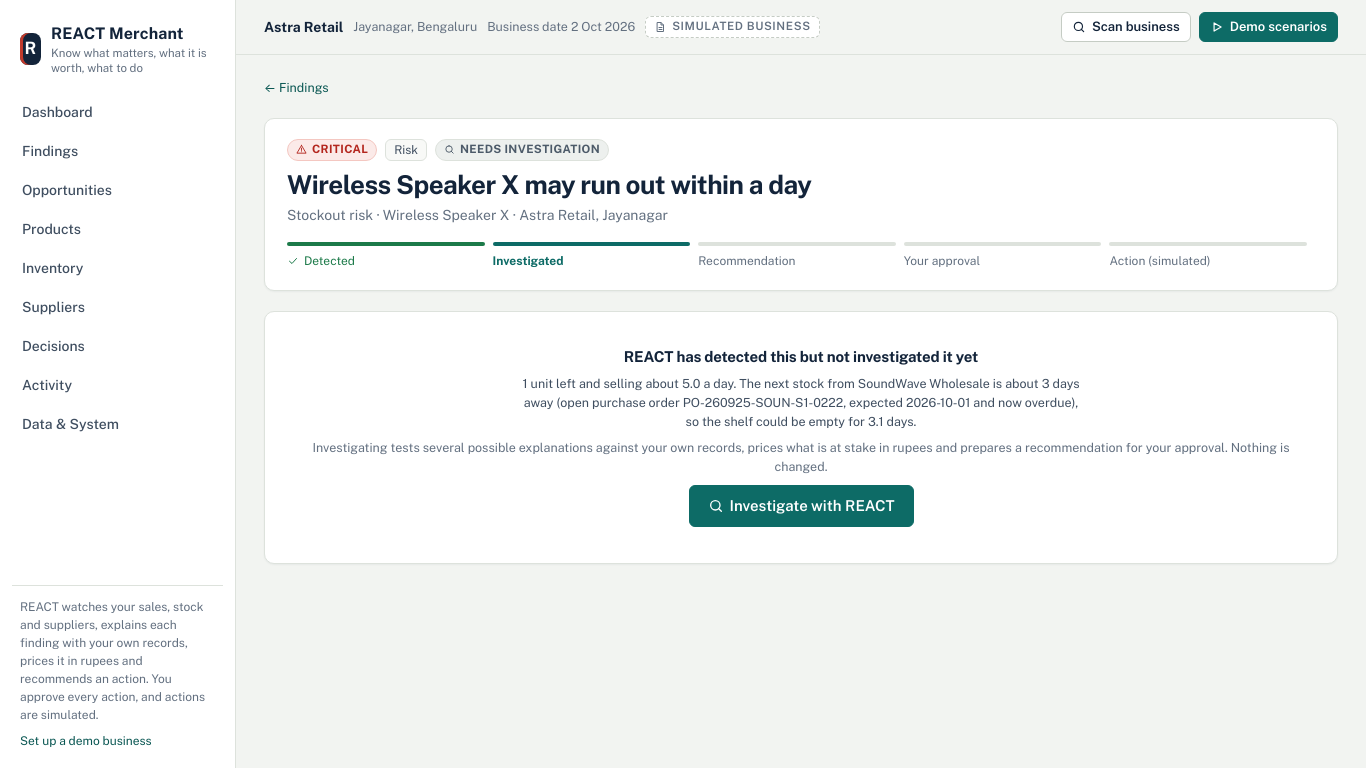
Investigation (case) page › offers to investigate a new finding and runs the REACT workflow
The width and height of the screenshot is (1366, 768).
Click the button "Investigate with REACT". click: (801, 506)
box: top-left (688, 485), bottom-right (914, 527)
(page scrolled)
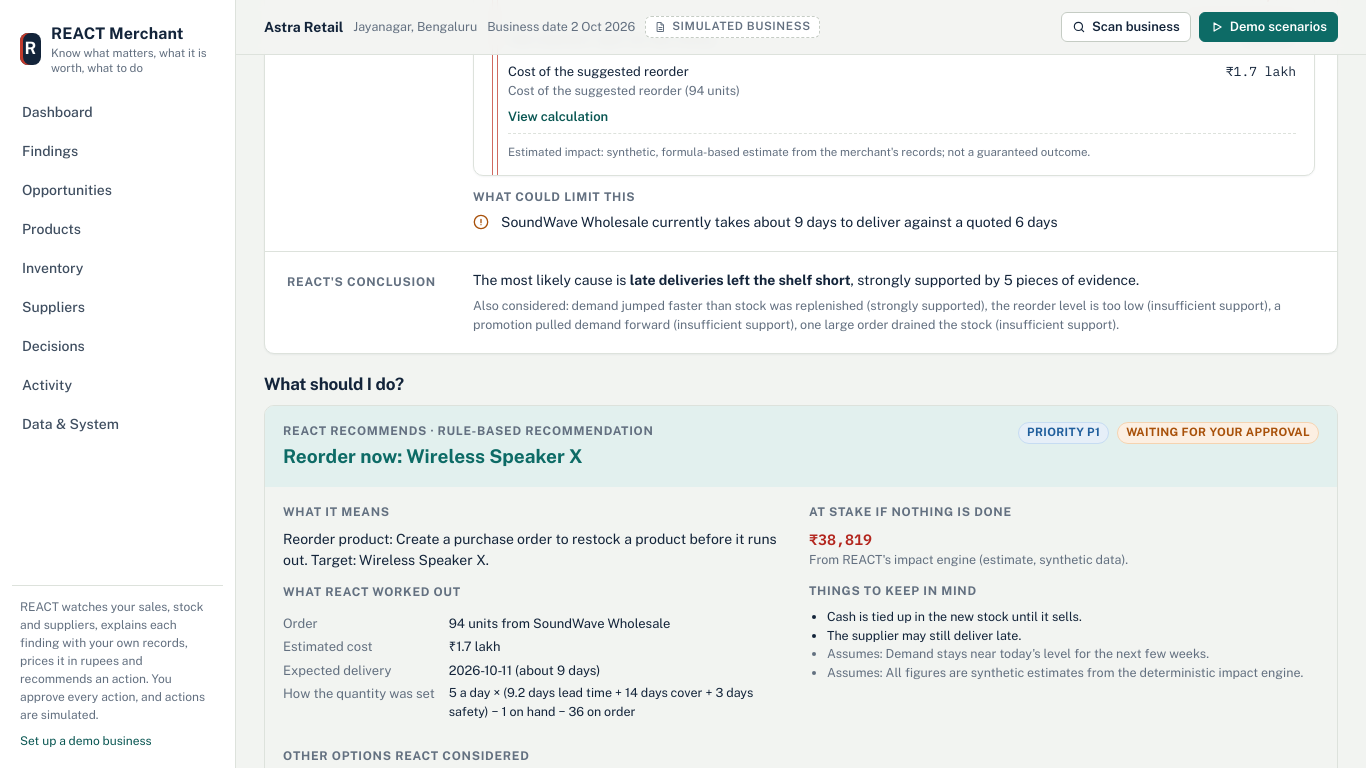
Expected: the heading "What should I do?" is shown, top-left (264, 374), bottom-right (404, 394)
